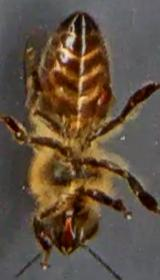varroa_mite: (87, 74, 113, 126)
